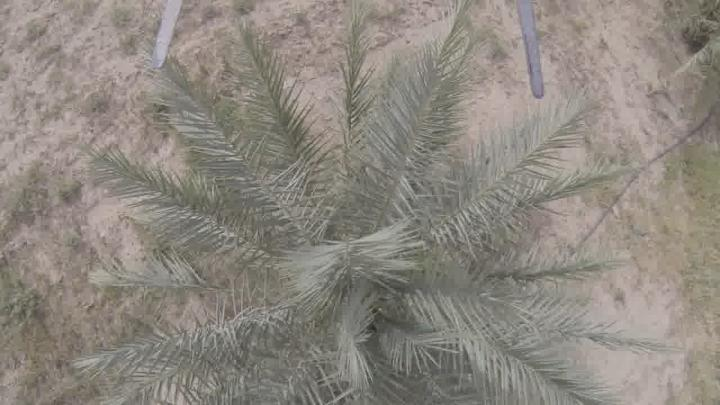Date-Palm-Crown: (200, 132, 496, 404)
